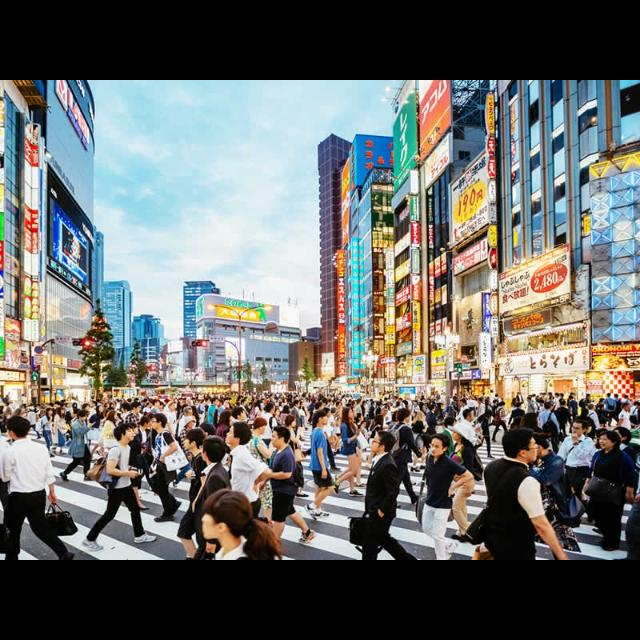head: (201, 490, 249, 540), (504, 427, 540, 463), (200, 437, 228, 463), (225, 422, 252, 446), (184, 428, 208, 452), (431, 432, 452, 458), (8, 416, 30, 440), (371, 431, 395, 453), (527, 435, 549, 457), (272, 427, 292, 449), (598, 431, 620, 451), (115, 425, 136, 443), (612, 428, 632, 444), (572, 420, 588, 438), (396, 408, 412, 424), (452, 425, 468, 441), (254, 417, 268, 435), (152, 416, 168, 430), (315, 410, 329, 426), (140, 417, 152, 429), (184, 418, 196, 430), (286, 416, 298, 428), (464, 410, 476, 422), (342, 408, 354, 419), (184, 408, 194, 420), (109, 411, 119, 422), (78, 411, 88, 421), (121, 404, 131, 414), (168, 401, 176, 412), (46, 408, 54, 416), (58, 407, 66, 415), (97, 406, 105, 414), (516, 402, 524, 410), (544, 402, 552, 410), (485, 412, 491, 420), (500, 402, 508, 408), (560, 400, 566, 408)
person: (80, 423, 158, 553), (260, 424, 318, 548), (581, 430, 637, 554), (223, 421, 273, 555), (596, 425, 636, 551), (380, 406, 428, 510), (446, 421, 486, 543), (554, 417, 598, 518), (152, 413, 192, 522), (242, 417, 278, 531), (307, 409, 337, 523), (331, 408, 367, 498), (59, 410, 100, 482), (451, 408, 484, 494), (132, 415, 162, 501), (282, 413, 310, 499), (172, 415, 204, 489), (99, 410, 125, 474), (118, 401, 140, 471), (178, 406, 200, 476), (535, 402, 561, 450), (88, 405, 110, 459), (162, 400, 180, 466), (473, 410, 495, 462), (35, 407, 57, 457), (552, 398, 572, 446), (52, 408, 70, 457), (490, 401, 510, 443), (506, 402, 526, 442)
